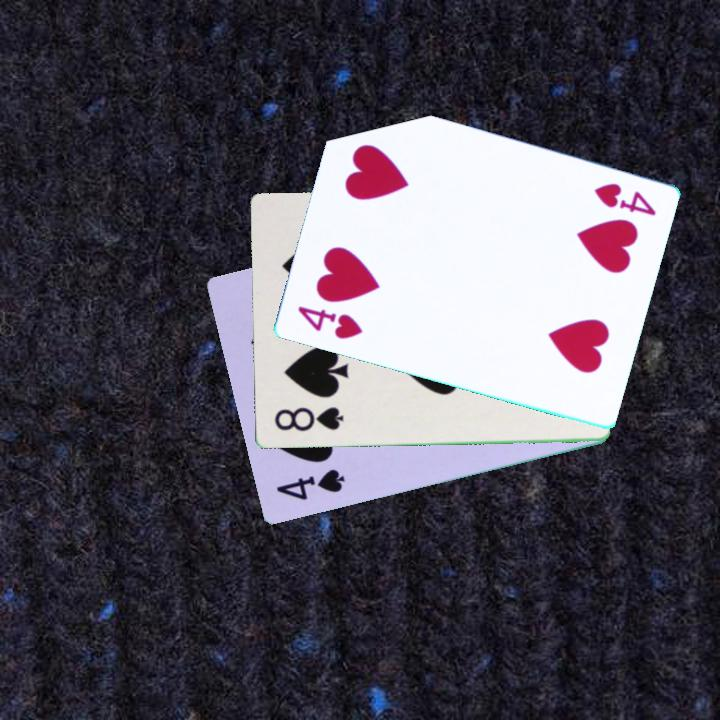4h: (293, 302, 365, 343), (590, 179, 659, 219)
4s: (272, 466, 348, 504)
8s: (271, 404, 346, 435)
